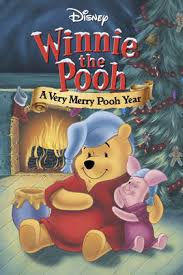Winnie: (62, 109, 131, 205)
